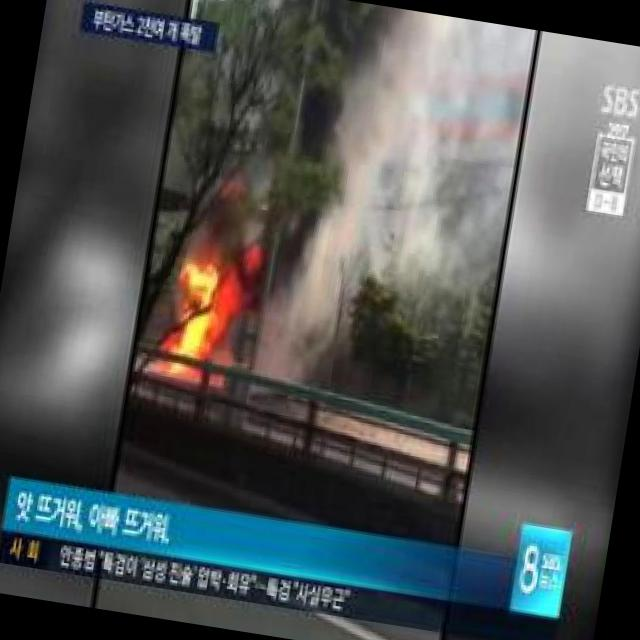Fire: (151, 187, 280, 398), (152, 272, 240, 393)
Smoke: (265, 0, 530, 407)
